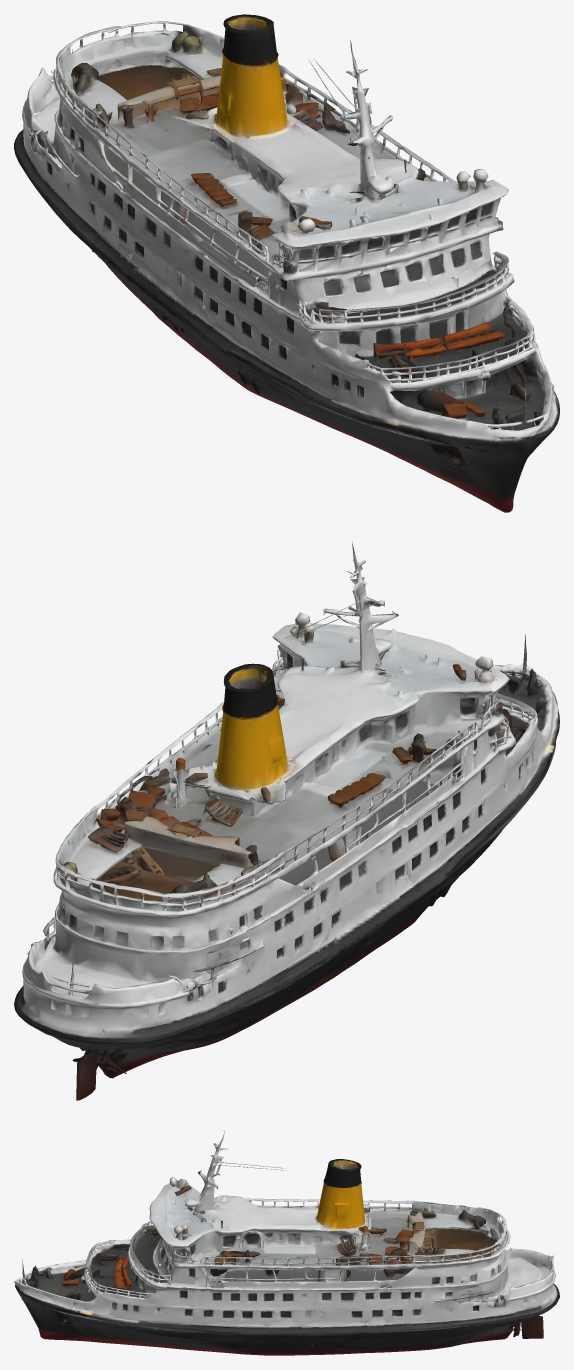
Rendered from ferry.glb.
3 views of the same model, one above another, from view 1: azimuth 30°, elevation 25°; view 2: azimuth 150°, elevation 25°; view 3: azimuth 270°, elevation 25° (orthographic). The views are drawn at different scales.
Visible parts, largest first — view 1: tripo_node_91a8daa2-c07f-47c0-8c75-3862d869121b; view 2: tripo_node_91a8daa2-c07f-47c0-8c75-3862d869121b; view 3: tripo_node_91a8daa2-c07f-47c0-8c75-3862d869121b.
Part boxes in pixels (x1,y1,x2,y2): tripo_node_91a8daa2-c07f-47c0-8c75-3862d869121b: (14,14,559,512); tripo_node_91a8daa2-c07f-47c0-8c75-3862d869121b: (14,542,559,1100); tripo_node_91a8daa2-c07f-47c0-8c75-3862d869121b: (14,1131,559,1355).
Bounding box in the file's own units: 0.2757 × 0.4229 × 1.
1 material, 1 textured.
